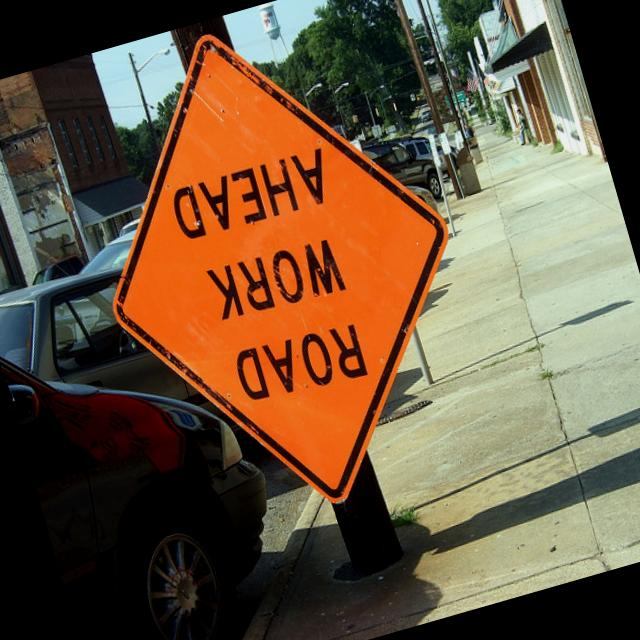Vehicle: (0, 281, 314, 640), (0, 240, 252, 499), (361, 130, 444, 213), (72, 227, 147, 280), (398, 128, 451, 188), (27, 252, 87, 287), (116, 217, 144, 236), (418, 108, 432, 124)
